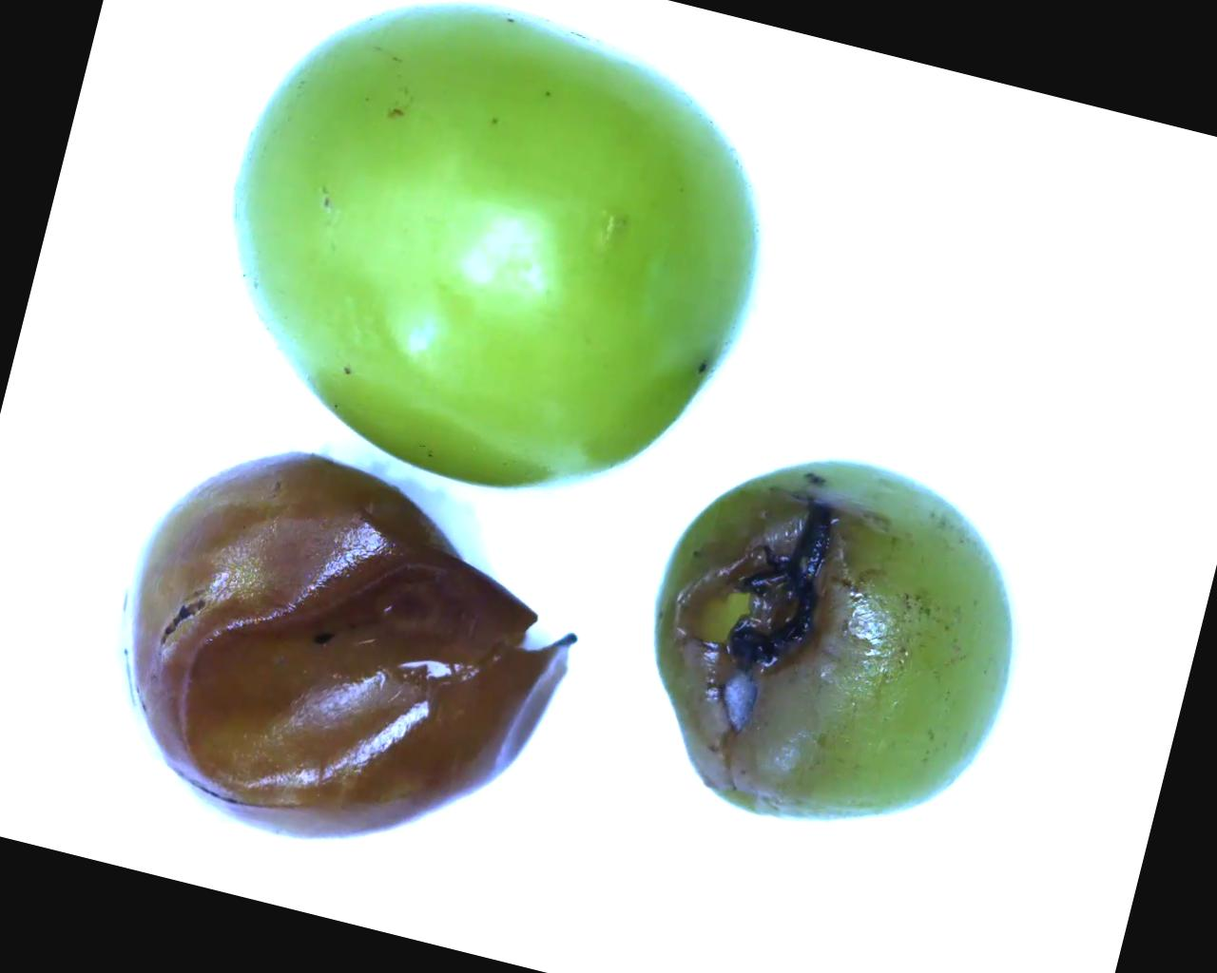Grape Rotten: (75, 413, 608, 895), (608, 417, 1054, 867)
Grape Unripe: (184, 0, 814, 493)
